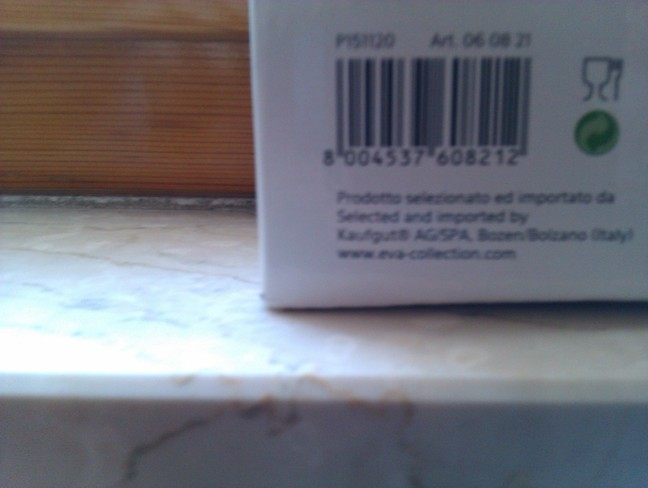barcode: (305, 48, 545, 185)
